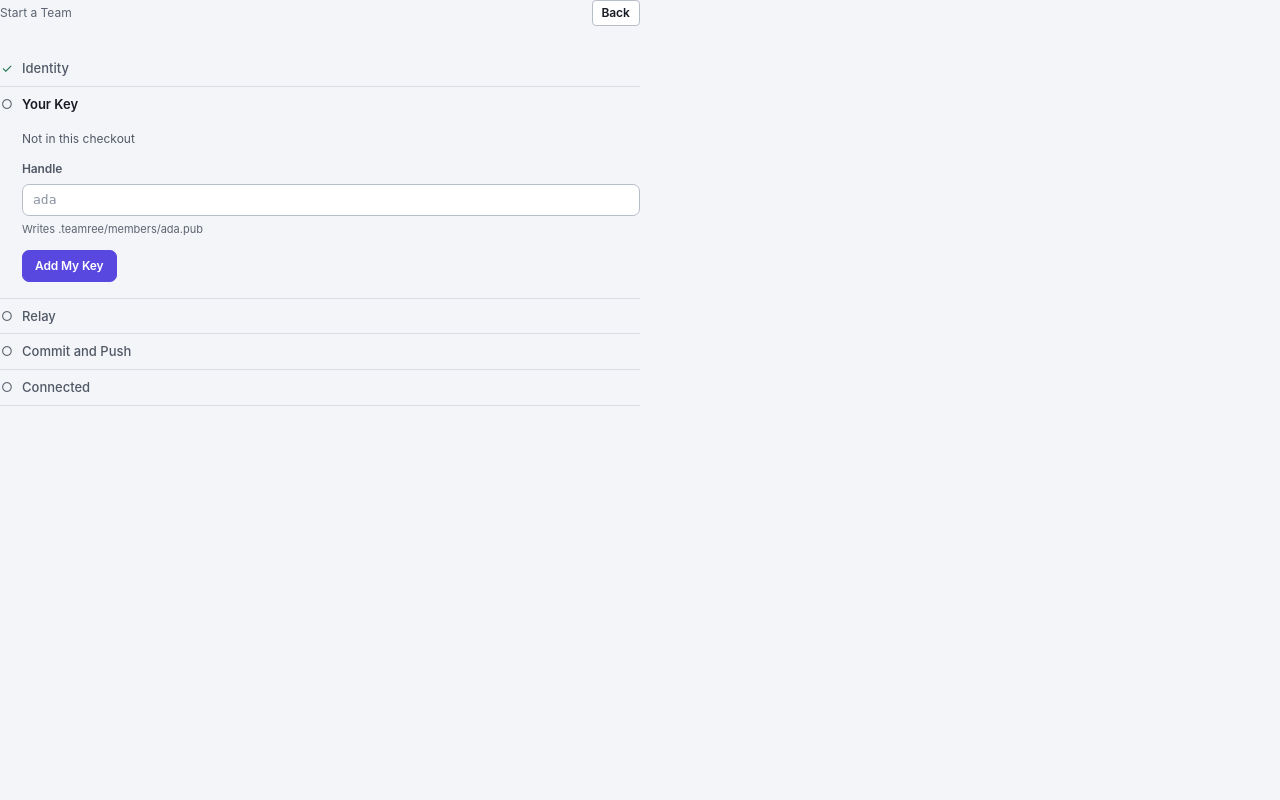
Scenario: what a key grants, and where it is said › names the handle the key will be filed under when none is typed
Click the button "Add My Key" at (69, 266), box x1=22 y1=250 x2=116 y2=282
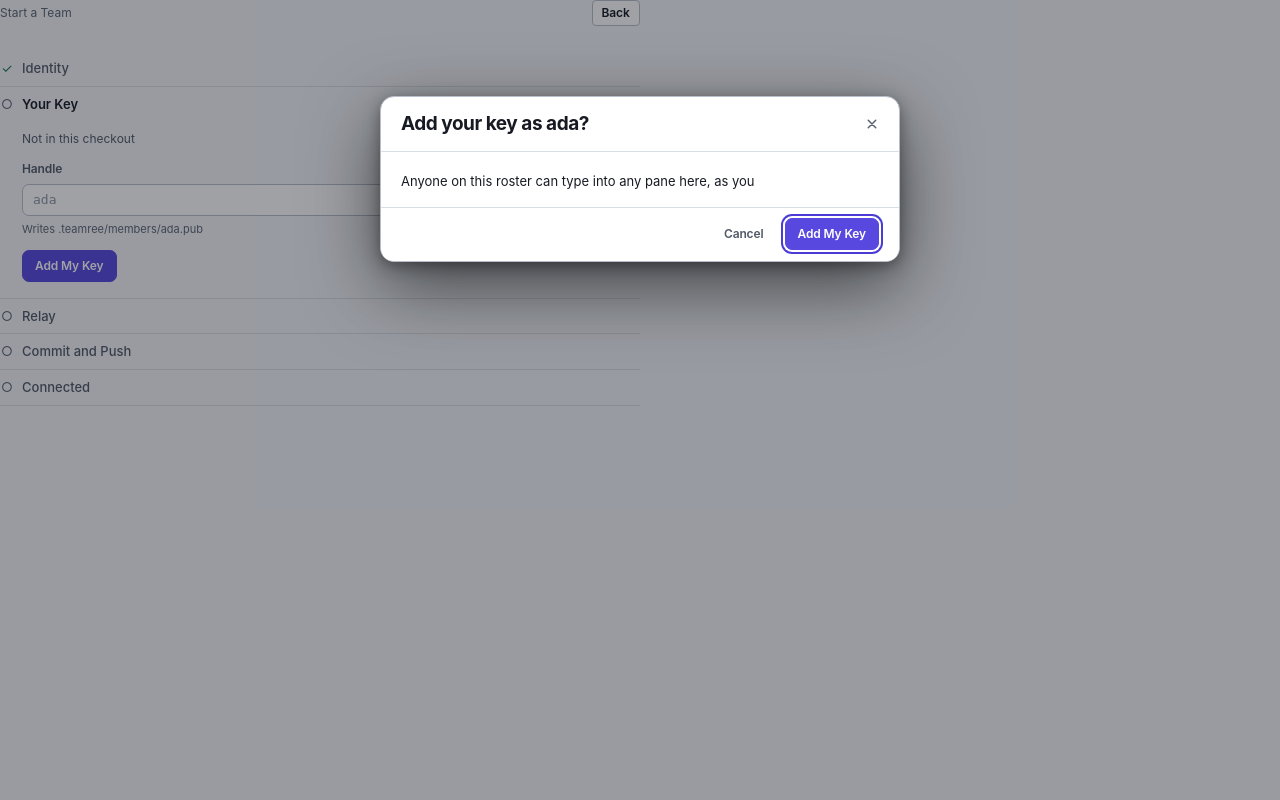
Check: the dialog "Add your key as ada?" is shown, box x1=380 y1=96 x2=900 y2=262
